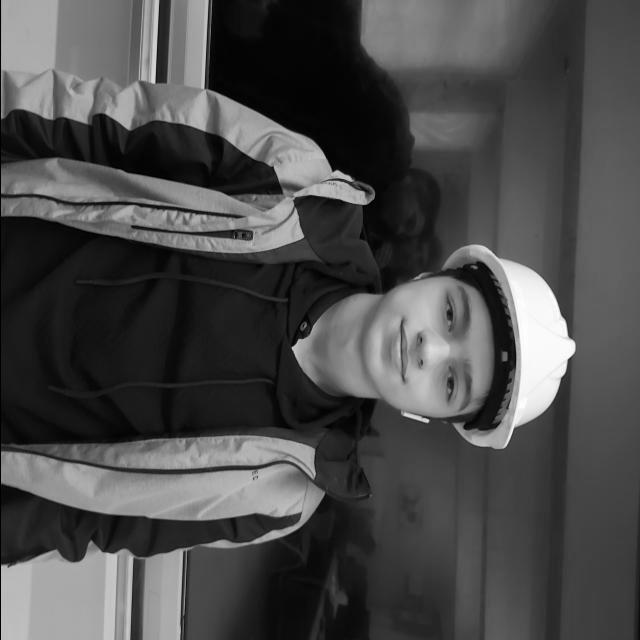construction helmet: (437, 244, 573, 450)
